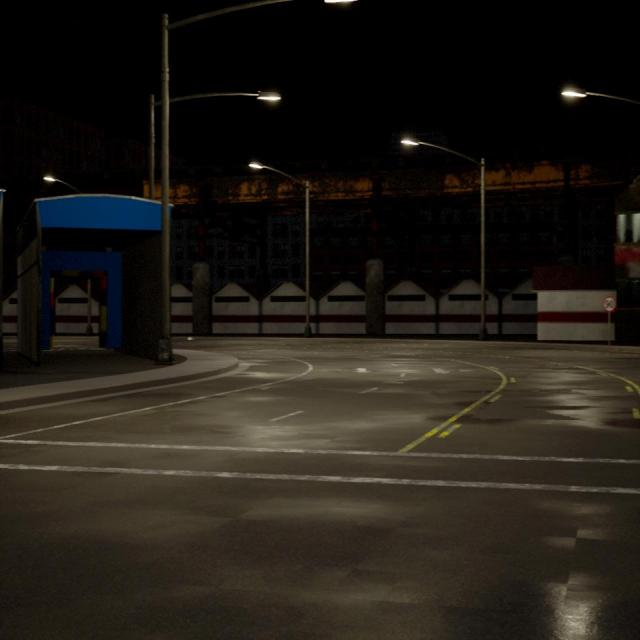Traffic_Signs: (604, 297, 614, 311)
